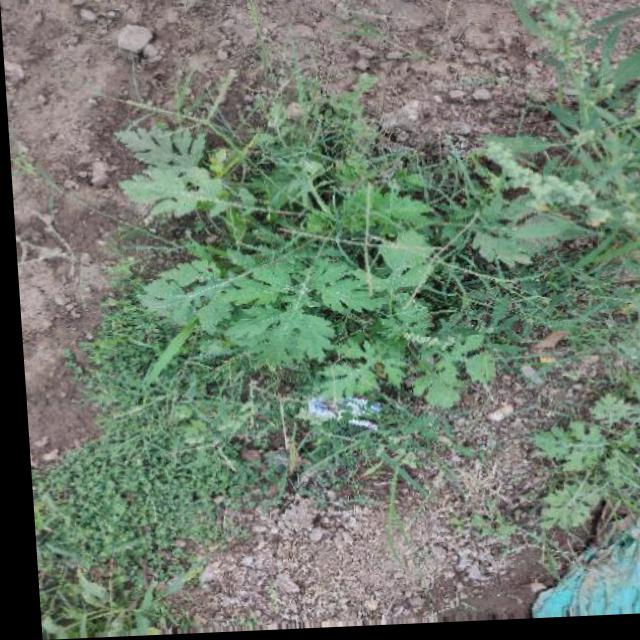weed: (120, 115, 571, 470), (515, 375, 640, 564)
